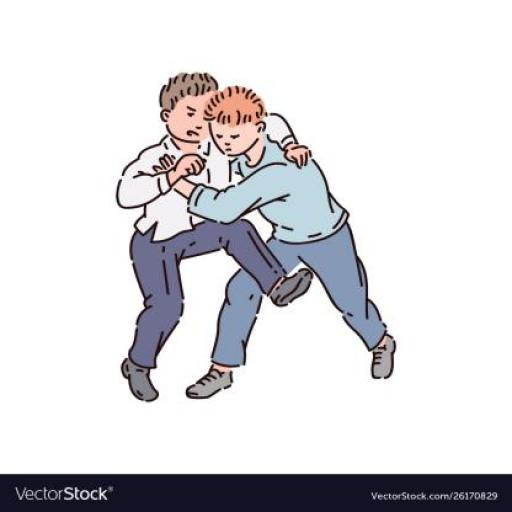Fighting: (118, 70, 396, 402)
